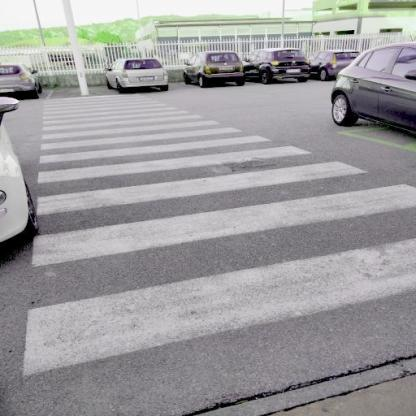crosswalk: (36, 133, 320, 187)
